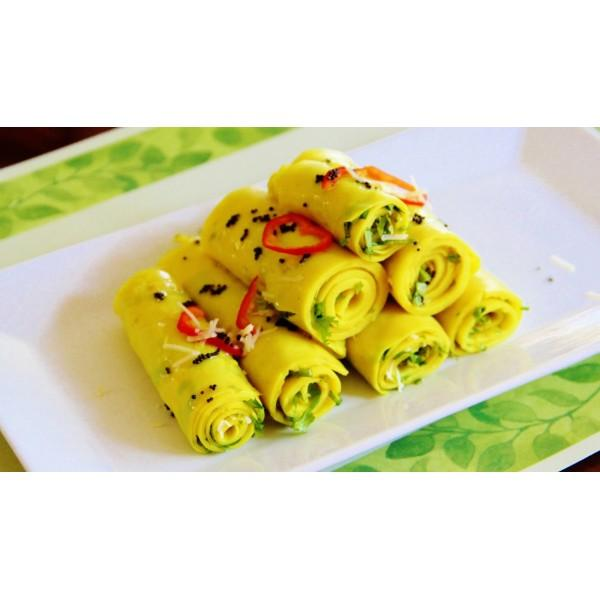khandvi: (138, 147, 518, 423)
